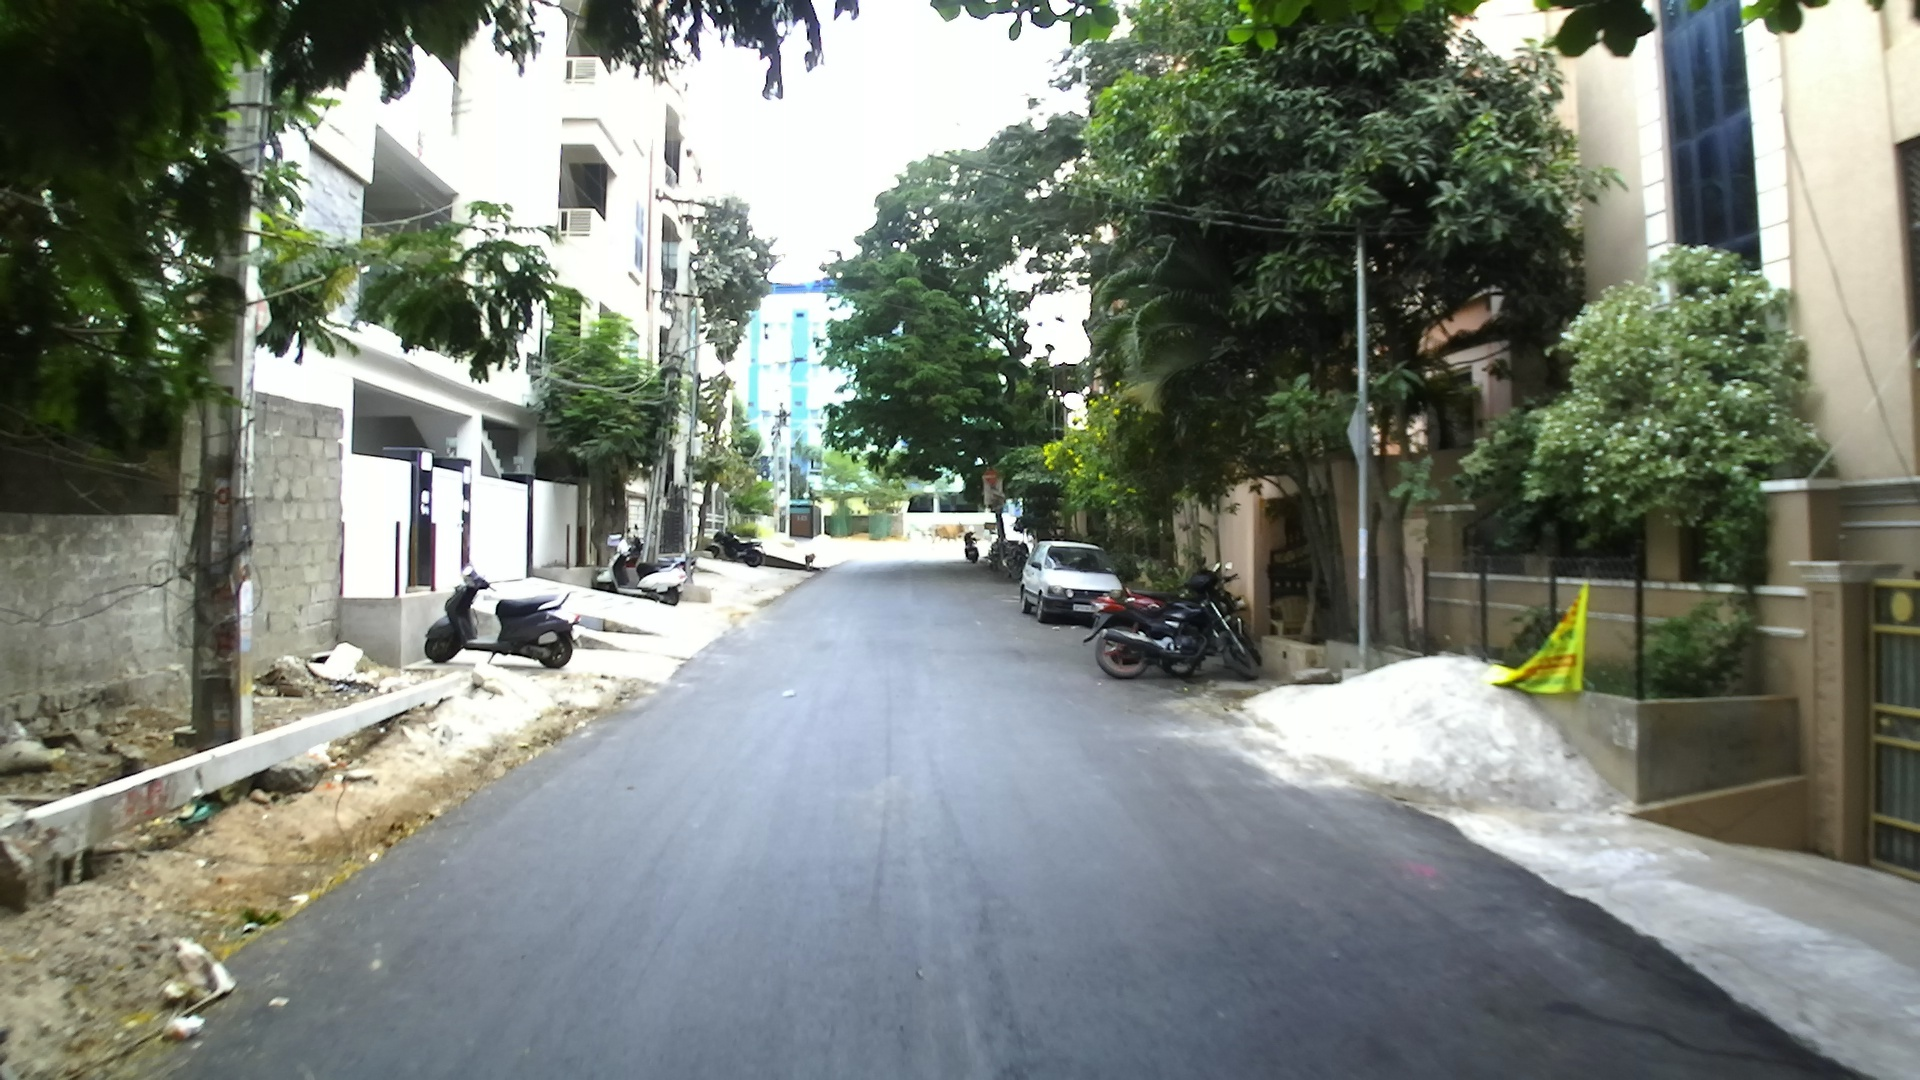vehicle: (1087, 568, 1258, 683), (1019, 542, 1124, 625), (632, 555, 694, 603)
